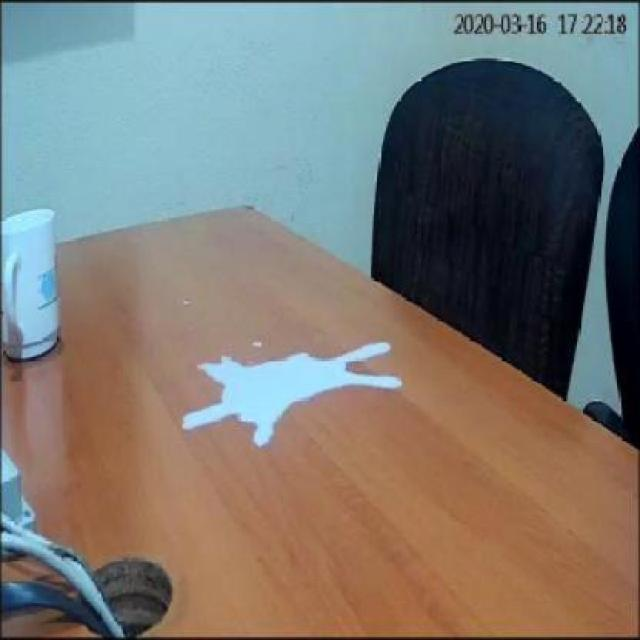spillage: (180, 341, 403, 452)
